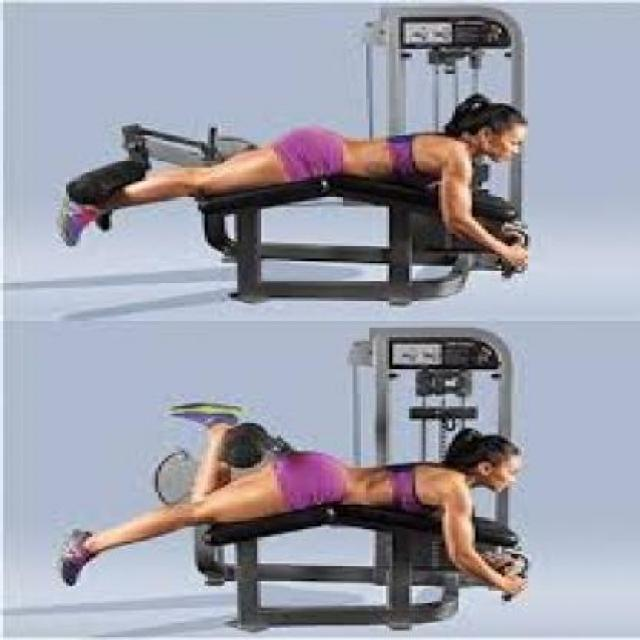reg curl machine: (45, 3, 537, 308), (52, 323, 534, 631)
